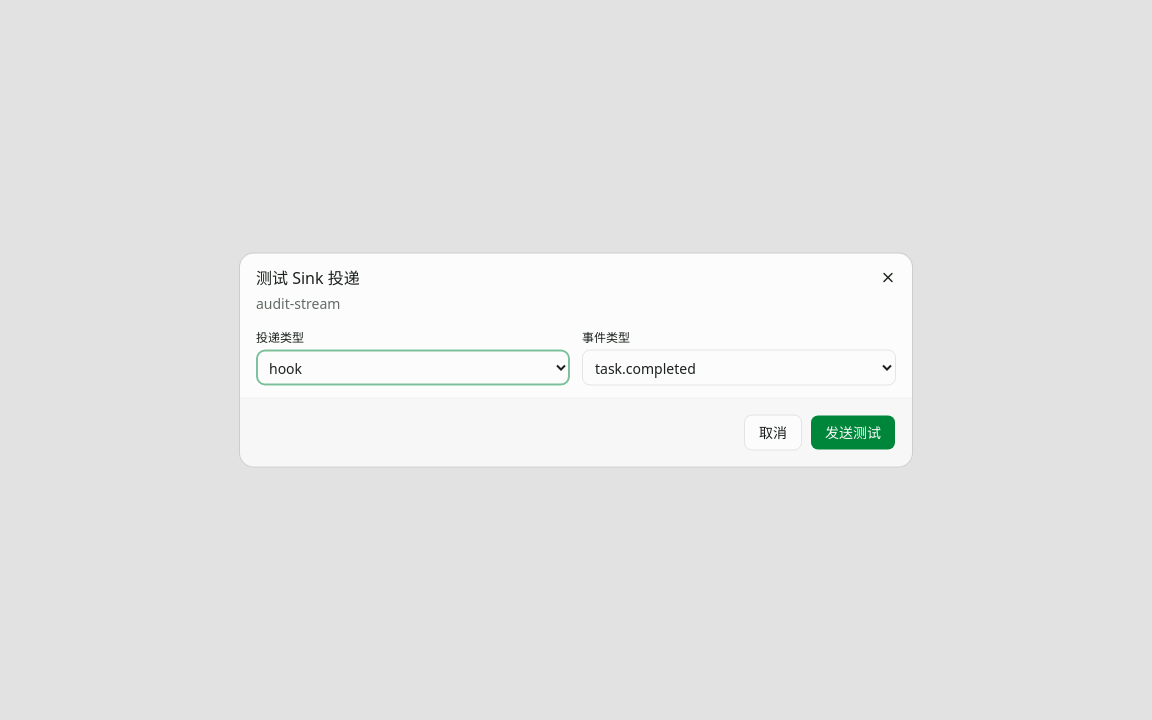
Test: SinkTestDialog › renders failed result without closing dialog
Click the button "发送测试".
click(853, 432)  # box 810,414 -> 896,450
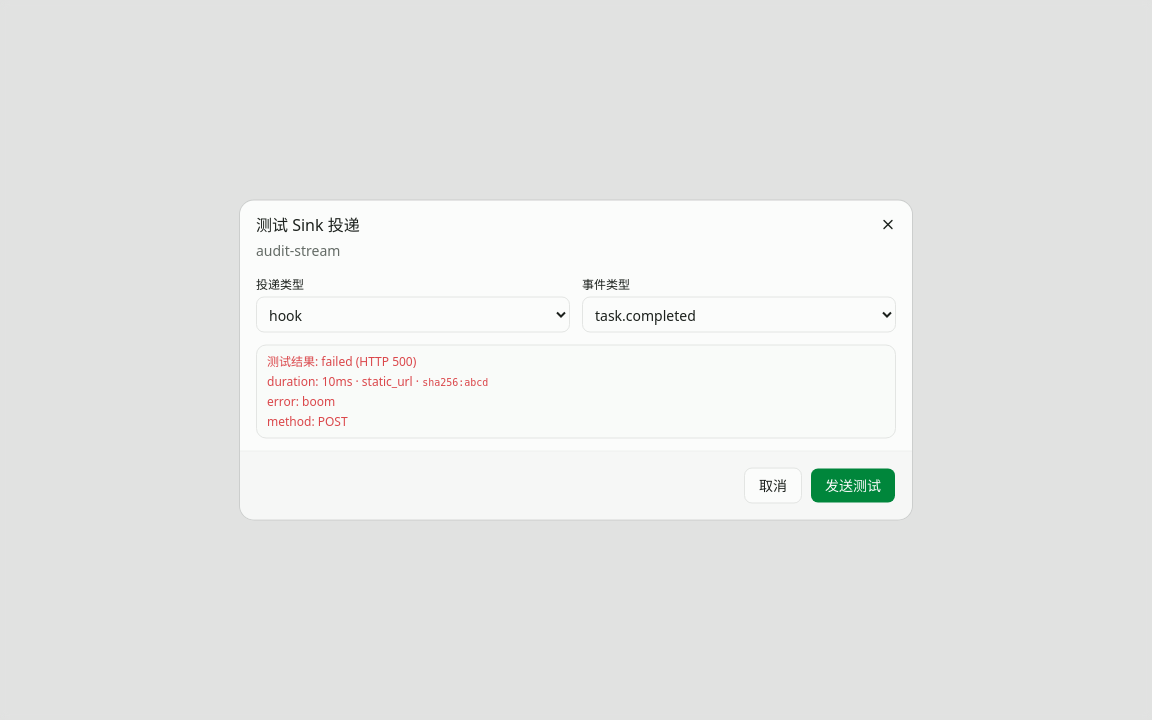
expect the text "测试结果: failed (HTTP 500)" is shown: met, box 267,352 -> 416,370
expect the text "error: boom" is shown: met, box 267,392 -> 335,410
